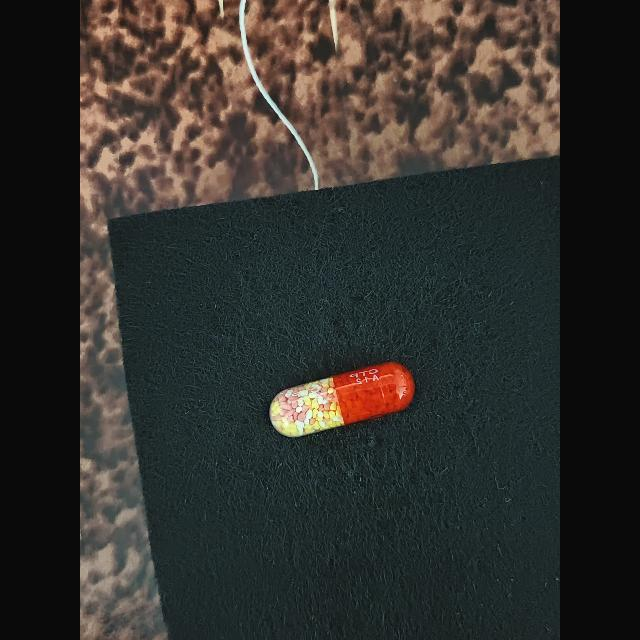Intact Capsule: (269, 362, 415, 437)
